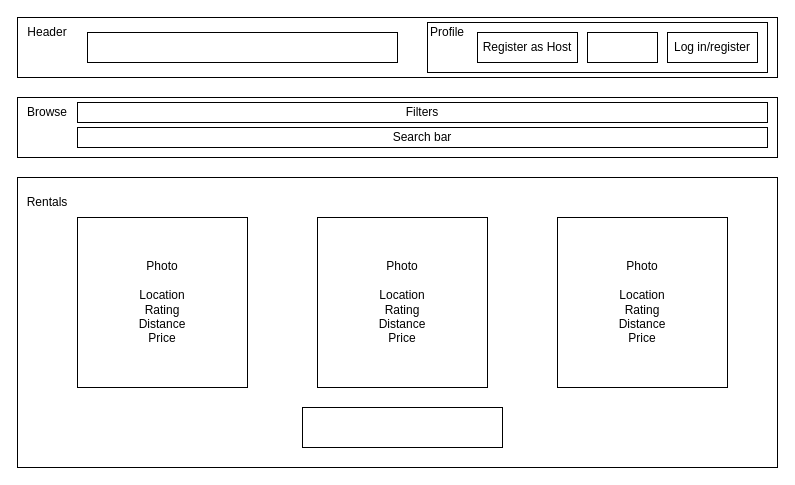
Some shapes in this 795 by 485 pixel diagram are drawn without their labels. Here are the shapes that lost their labels. From the top down, the box of each, then its label:
(86, 32, 398, 62): Reservation Bar
(586, 32, 658, 62): Settings
(302, 406, 502, 448): View map button
